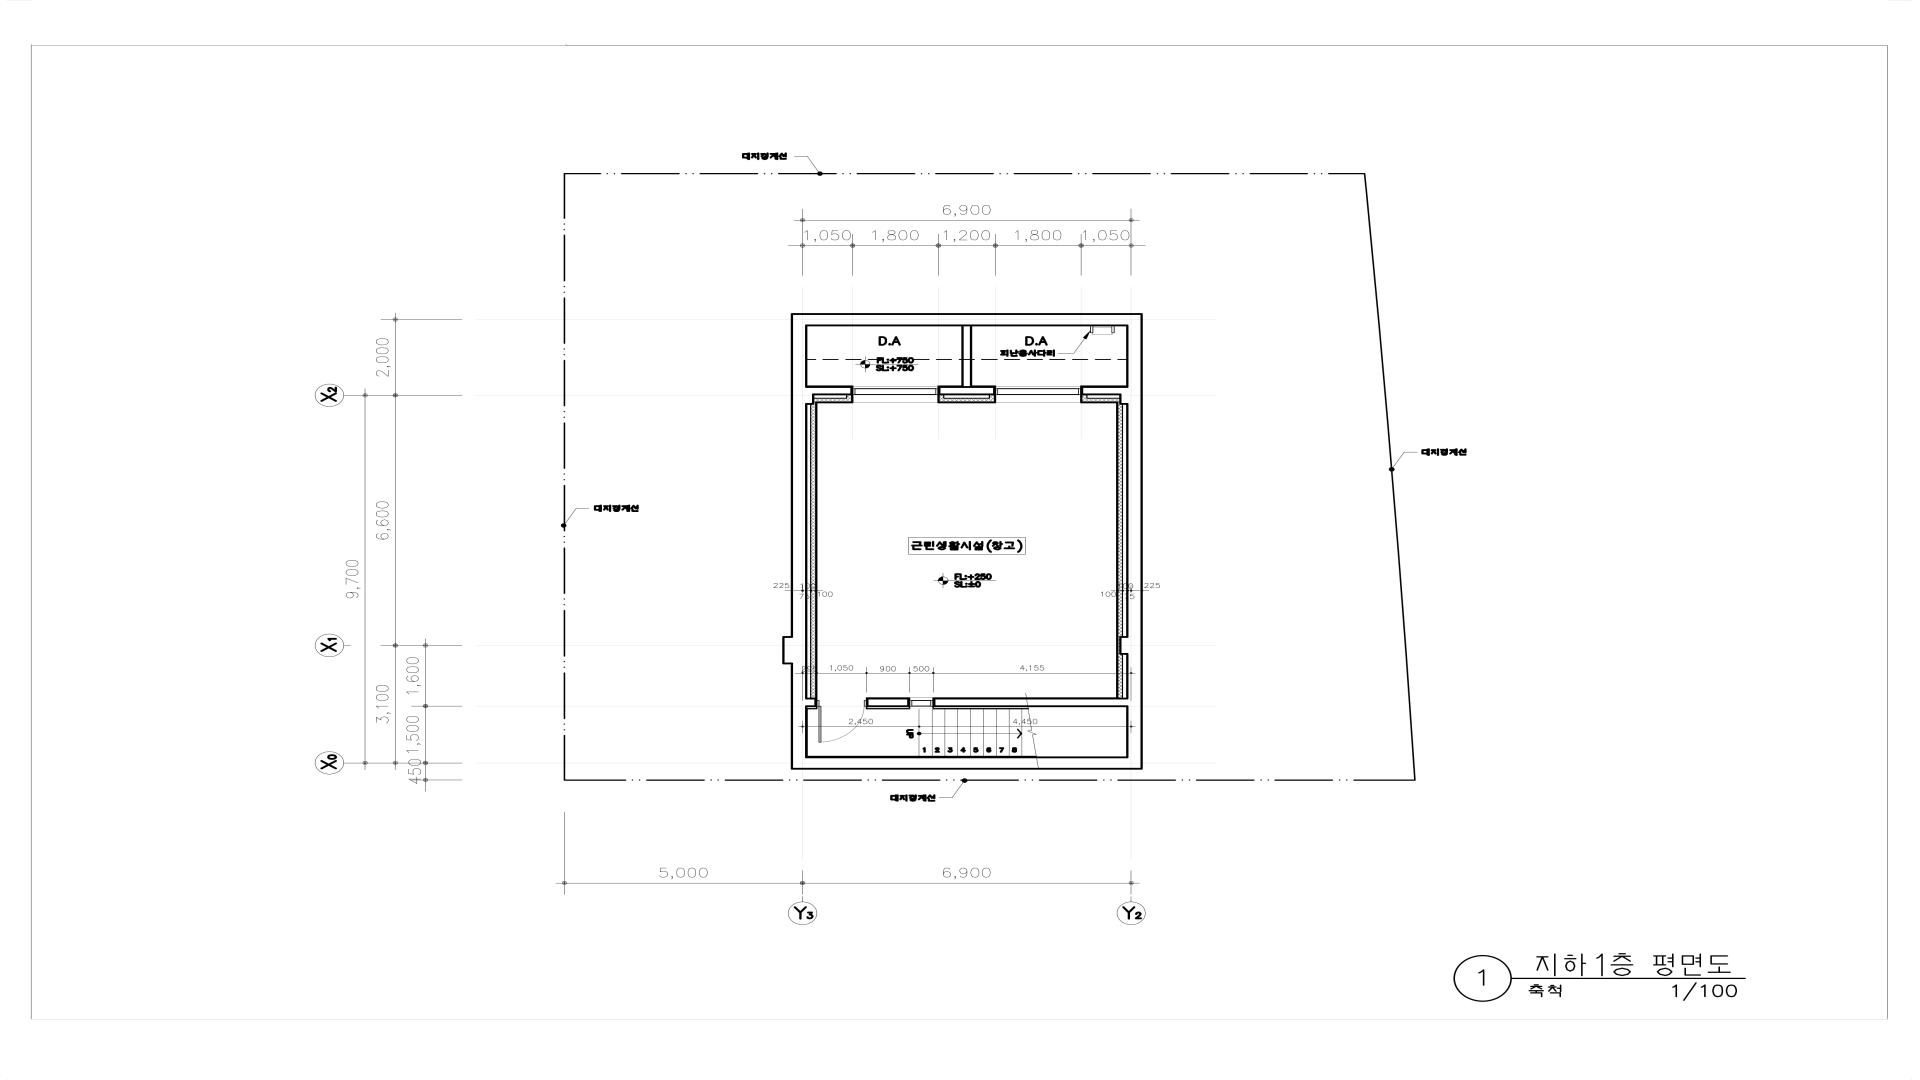door: (818, 700, 866, 742)
wall: (810, 394, 853, 698), (1080, 394, 1124, 698), (782, 405, 808, 770), (1120, 405, 1143, 770), (791, 313, 1143, 327), (808, 756, 1126, 770), (932, 698, 1126, 707), (1080, 385, 1143, 405), (791, 385, 853, 405), (1126, 327, 1143, 385), (791, 326, 807, 386), (961, 326, 972, 385), (938, 385, 996, 396), (865, 698, 910, 707), (944, 398, 989, 404), (808, 698, 818, 707), (938, 394, 944, 404), (989, 396, 996, 404)
window: (996, 386, 1080, 404), (853, 386, 938, 404), (910, 698, 932, 709)
